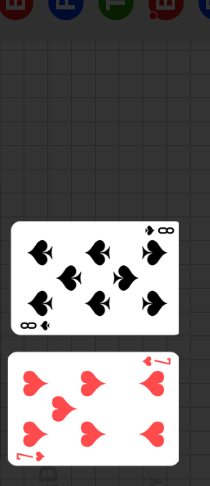10S: (142, 225, 175, 238)
7H: (14, 450, 46, 464)
